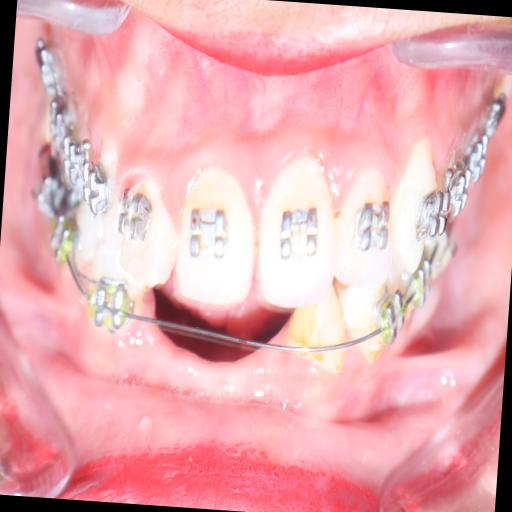correct_brace: (274, 196, 323, 262), (351, 190, 394, 258), (190, 196, 230, 262), (112, 185, 156, 243)
incorrect_brace: (118, 171, 180, 289)
